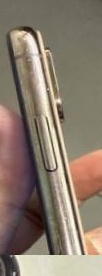scratch: (51, 206, 75, 229), (17, 38, 38, 64), (14, 56, 45, 68), (37, 83, 56, 96)
